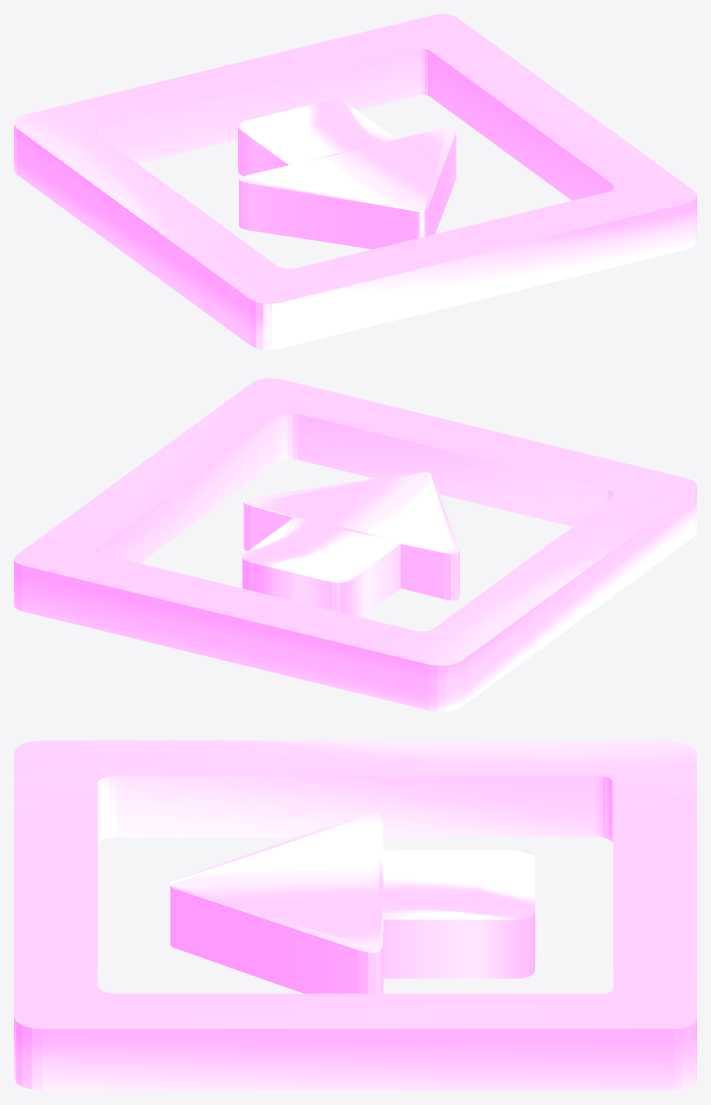
The model's file is Star tile (glow) 1.glb.
3 renders of one model, top to bottom at view 1: azimuth 30°, elevation 25°; view 2: azimuth 150°, elevation 25°; view 3: azimuth 270°, elevation 25°, orthographic. The views are drawn at different scales.
Visible parts, largest first — view 1: Plane; view 2: Plane; view 3: Plane.
Boxes of the visible parts, x1,y1,x2,y2 form: Plane: [14, 14, 696, 349]; Plane: [14, 378, 696, 711]; Plane: [14, 740, 696, 1090].
Size of the model in its own units: 2 by 0.2026 by 2.
1 material, 1 textured.
